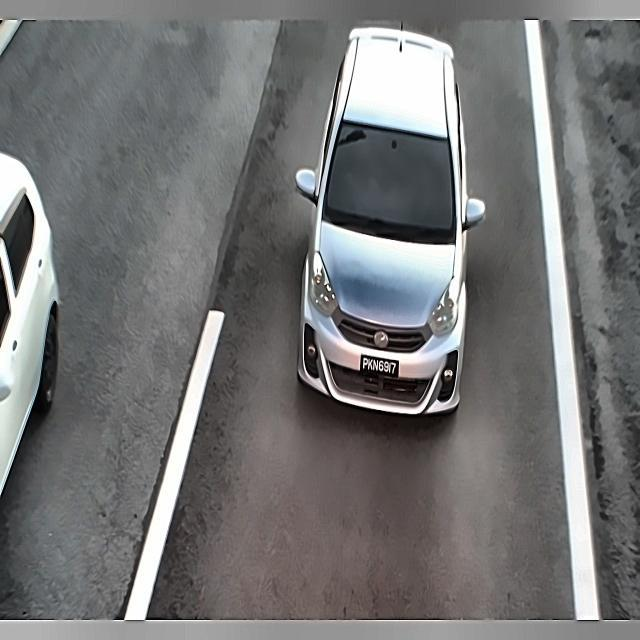car: (356, 352, 407, 382)
